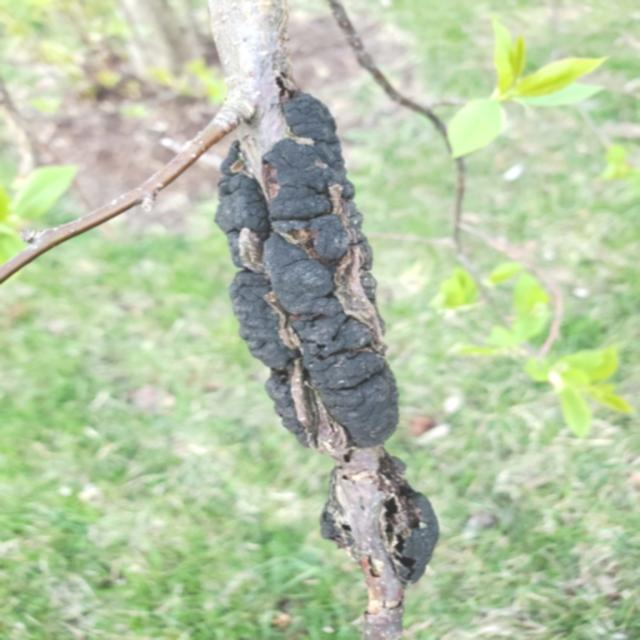Black_knot: (214, 89, 404, 452)
